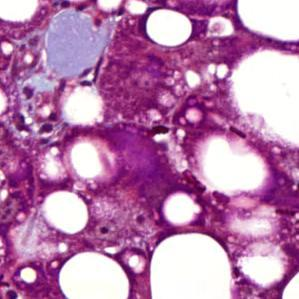steatosis: (43, 188, 91, 234), (145, 5, 193, 48)
